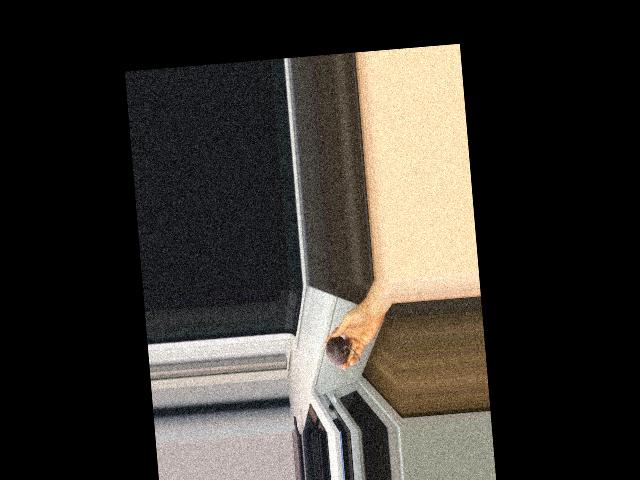beet: (324, 335, 362, 369)
